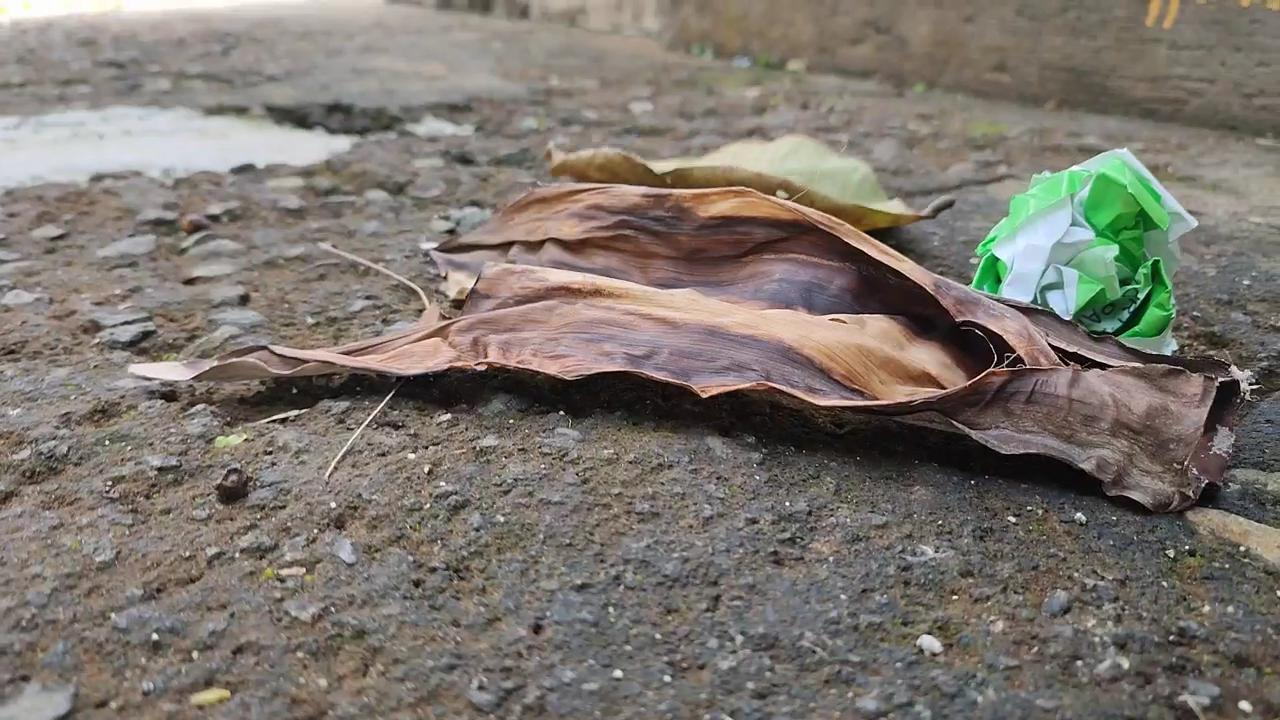Paper: (958, 141, 1205, 365)
